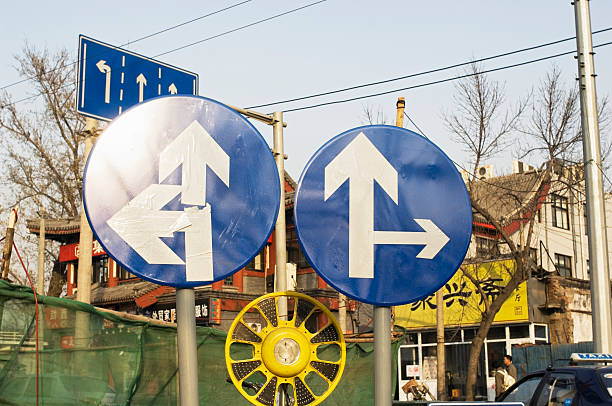ileri_veya_saga: (297, 122, 481, 308)
ileri_veya_sola: (92, 98, 275, 282)
yaya: (218, 285, 350, 405)
